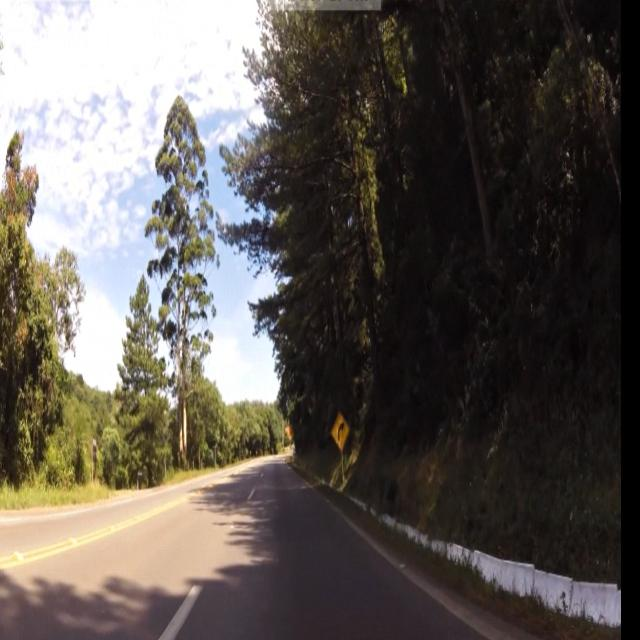A-2b: (331, 413, 351, 454)
